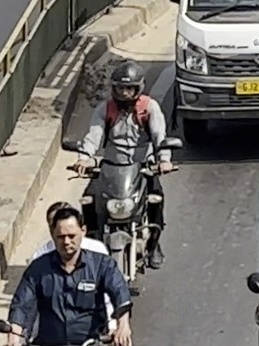BikeWithRider: (55, 59, 186, 294)
Helmet: (107, 59, 149, 107)
